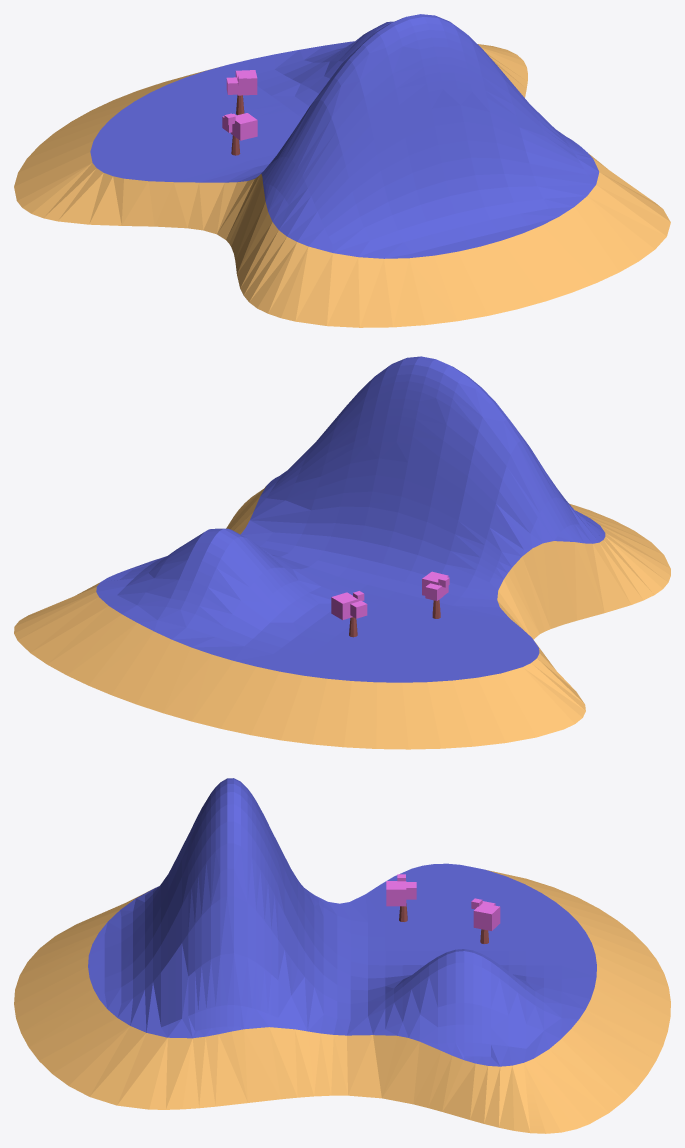
3 views of the same model, one above another, from view 1: azimuth 30°, elevation 25°; view 2: azimuth 150°, elevation 25°; view 3: azimuth 270°, elevation 25° (orthographic). The views are drawn at different scales.
Visible parts, largest first — view 1: Object_6, Object_7, Object_5, Object_3; view 2: Object_6, Object_7, Object_3, Object_5; view 3: Object_6, Object_7, Object_5, Object_3.
Boxes of the visible parts, left/top/right/bottom form: Object_6: left=90, top=14, right=599, bottom=258; Object_7: left=14, top=44, right=670, bottom=327; Object_5: left=222, top=113, right=257, bottom=140; Object_3: left=226, top=70, right=257, bottom=95; Object_6: left=96, top=356, right=605, bottom=682; Object_7: left=14, top=486, right=670, bottom=749; Object_3: left=331, top=591, right=367, bottom=620; Object_5: left=422, top=571, right=449, bottom=600; Object_6: left=88, top=778, right=596, bottom=1066; Object_7: left=14, top=870, right=670, bottom=1133; Object_5: left=386, top=874, right=416, bottom=906; Object_3: left=471, top=898, right=500, bottom=930.
Size of the model in its own units: 0.0867 by 0.0336 by 0.0916.
